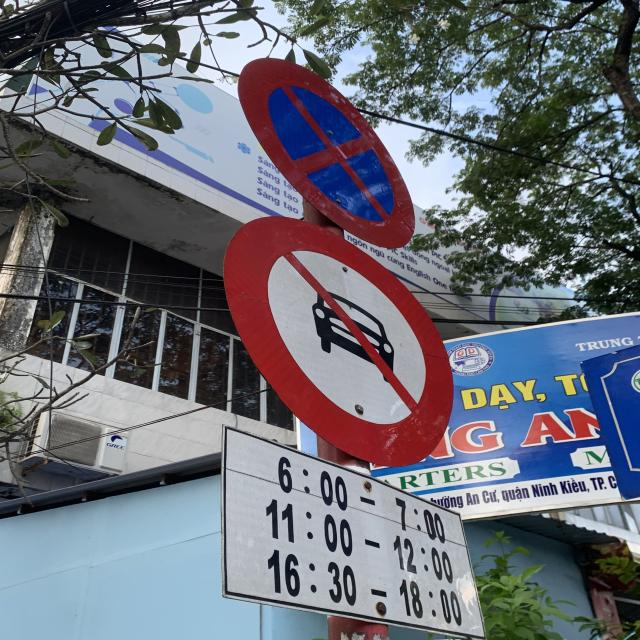Cam_Dung_Va_Dau_Xe: (238, 55, 416, 245)
Cam_O_To: (222, 215, 454, 464)
